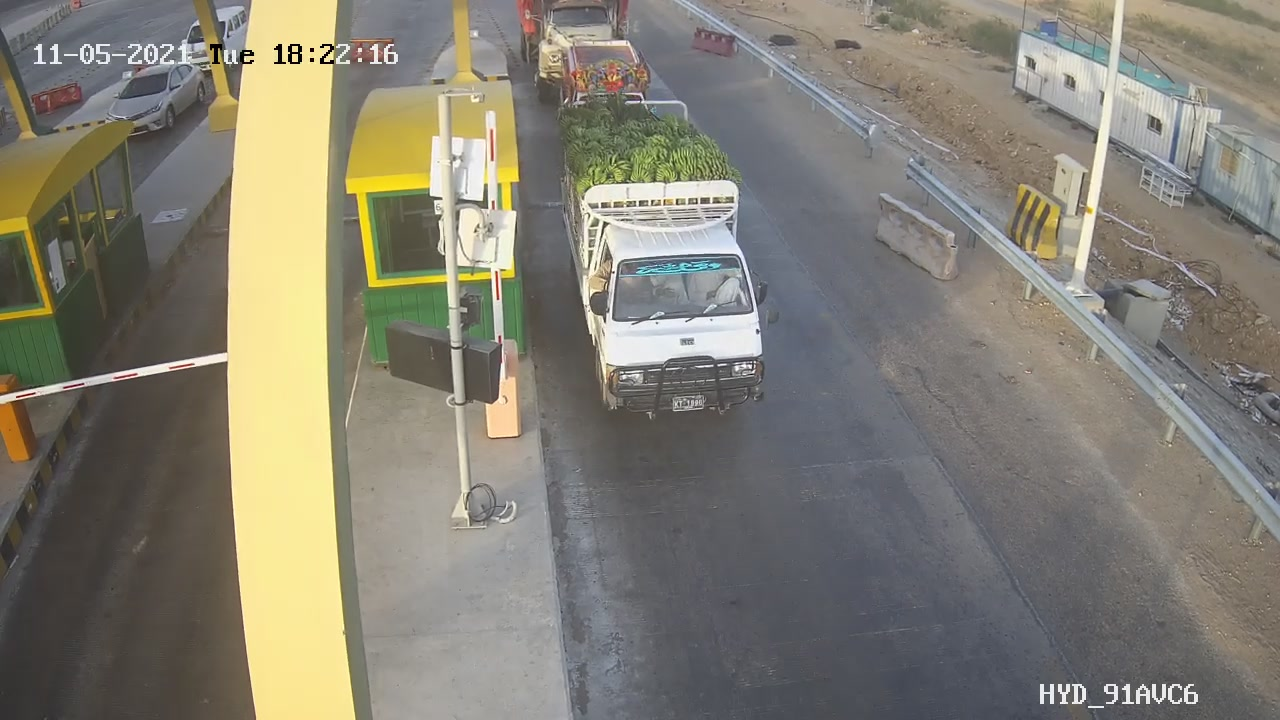F2: (554, 87, 771, 425)
